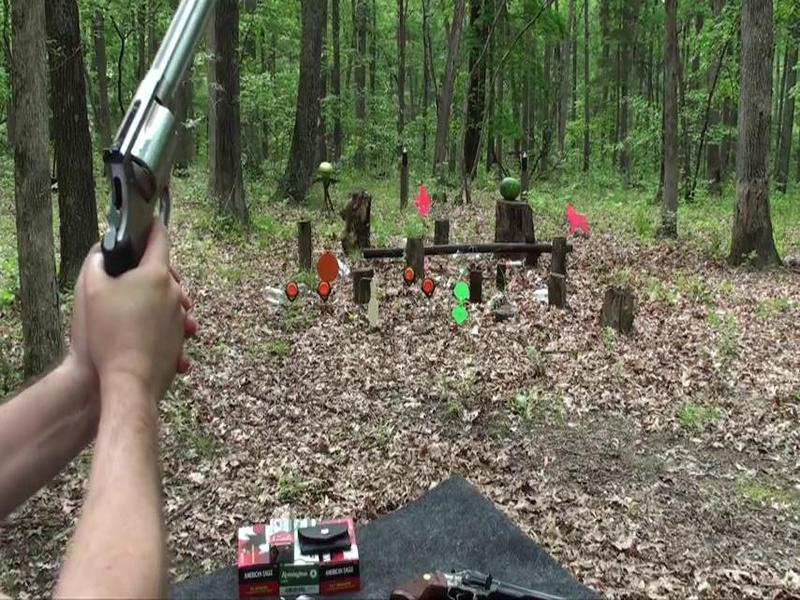Revolver: (53, 1, 247, 275)
